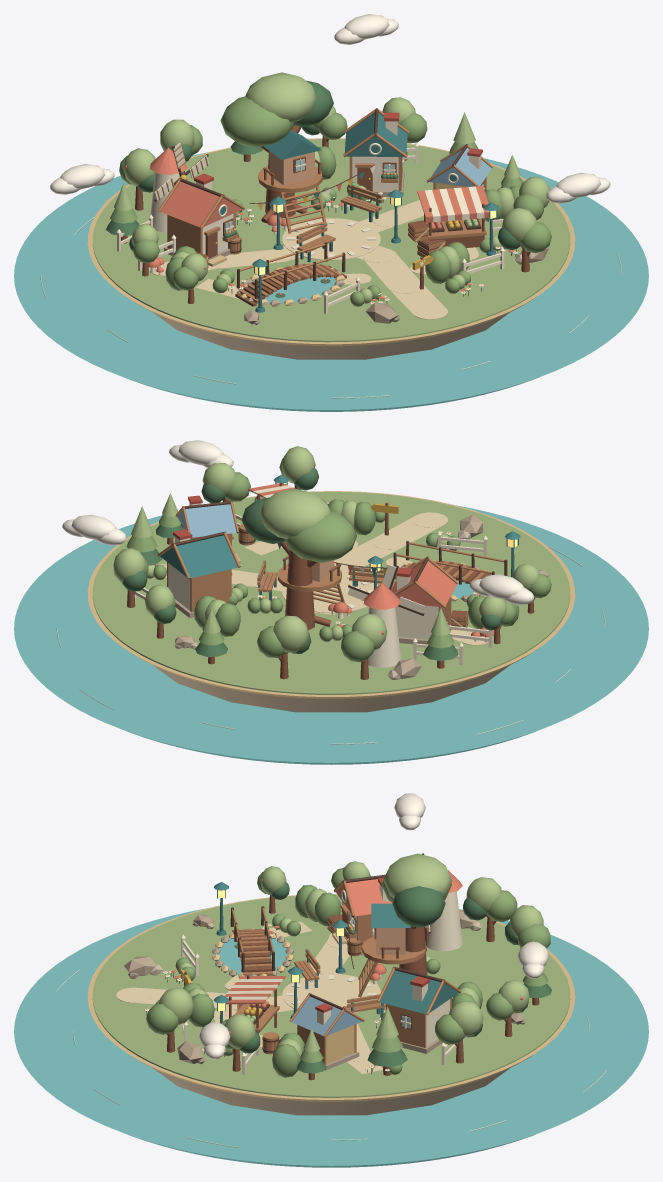
File: village.glb
The picture shows the model from 3 angles, top to bottom: view 1: azimuth 30°, elevation 25°; view 2: azimuth 150°, elevation 25°; view 3: azimuth 270°, elevation 25°; orthographic projection.
Visible parts, largest first — view 1: surface_sea_water, surface_meadow_grass, surface_#8da970, surface_#b0c58a, surface_#be8960, surface_#f1ddb4, surface_#fff2d6, surface_#bca991, surface_#df8269, surface_#936047, surface_#4b8584, surface_#e7c994 (+6 smaller); view 2: surface_sea_water, surface_meadow_grass, surface_#b0c58a, surface_#8da970, surface_#bca991, surface_#be8960, surface_#fff2d6, surface_#f1ddb4, surface_#577d5b, surface_#936047, surface_#e7c994, surface_#df8269 (+4 smaller); view 3: surface_sea_water, surface_meadow_grass, surface_#b0c58a, surface_#8da970, surface_#be8960, surface_#bca991, surface_#f1ddb4, surface_#fff2d6, surface_#577d5b, surface_#e7c994, surface_#936047, surface_#4b8584 (+7 smaller).
Boxes of the visible parts, x1=… form: surface_sea_water: x1=14, y1=152, x2=648, y2=411; surface_meadow_grass: x1=92, y1=139, x2=570, y2=342; surface_#8da970: x1=110, y1=96, x2=551, y2=306; surface_#b0c58a: x1=114, y1=72, x2=550, y2=303; surface_#be8960: x1=158, y1=109, x2=493, y2=303; surface_#f1ddb4: x1=149, y1=200, x2=479, y2=319; surface_#fff2d6: x1=116, y1=121, x2=538, y2=313; surface_#bca991: x1=153, y1=170, x2=548, y2=359; surface_#df8269: x1=124, y1=147, x2=514, y2=301; surface_#936047: x1=121, y1=125, x2=530, y2=306; surface_#4b8584: x1=220, y1=113, x2=498, y2=312; surface_#e7c994: x1=87, y1=138, x2=575, y2=346; surface_sea_water: x1=14, y1=505, x2=648, y2=764; surface_meadow_grass: x1=92, y1=491, x2=570, y2=694; surface_#b0c58a: x1=113, y1=446, x2=539, y2=652; surface_#8da970: x1=126, y1=458, x2=551, y2=662; surface_#bca991: x1=153, y1=496, x2=549, y2=712; surface_#be8960: x1=157, y1=501, x2=504, y2=629; surface_#fff2d6: x1=134, y1=485, x2=492, y2=667; surface_#f1ddb4: x1=154, y1=512, x2=487, y2=645; surface_#577d5b: x1=122, y1=467, x2=501, y2=660; surface_#936047: x1=127, y1=482, x2=535, y2=679; surface_#e7c994: x1=87, y1=491, x2=575, y2=698; surface_#df8269: x1=144, y1=483, x2=494, y2=636; surface_sea_water: x1=14, y1=908, x2=648, y2=1167; surface_meadow_grass: x1=92, y1=894, x2=570, y2=1097; surface_#b0c58a: x1=158, y1=853, x2=544, y2=1060; surface_#8da970: x1=146, y1=867, x2=550, y2=1077; surface_#be8960: x1=231, y1=880, x2=461, y2=1064; surface_#bca991: x1=124, y1=910, x2=523, y2=1115; surface_#f1ddb4: x1=116, y1=921, x2=382, y2=1074; surface_#fff2d6: x1=144, y1=884, x2=463, y2=1074; surface_#577d5b: x1=146, y1=876, x2=551, y2=1076; surface_#e7c994: x1=87, y1=894, x2=575, y2=1101; surface_#936047: x1=166, y1=895, x2=539, y2=1080; surface_#4b8584: x1=213, y1=882, x2=458, y2=1022.
Size of the model in its own units: 28.3 by 8.68 by 28.3.
